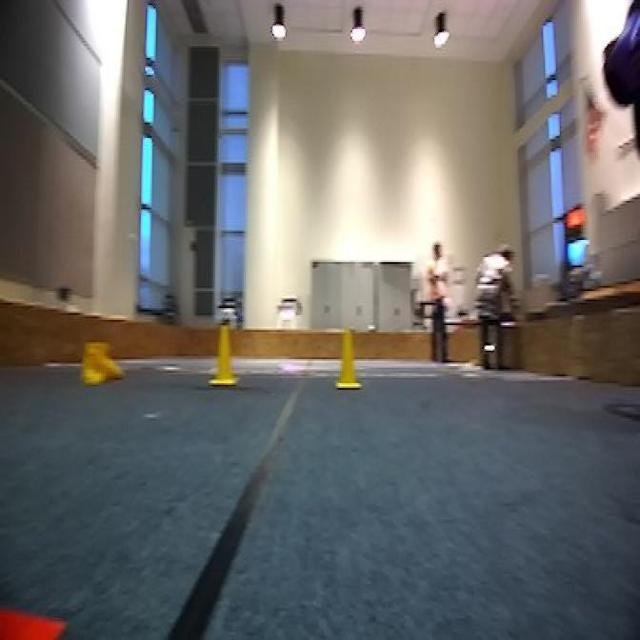frc_cone: (82, 339, 125, 386), (210, 322, 239, 388), (334, 330, 362, 392)
frc_cube: (605, 10, 640, 109)
